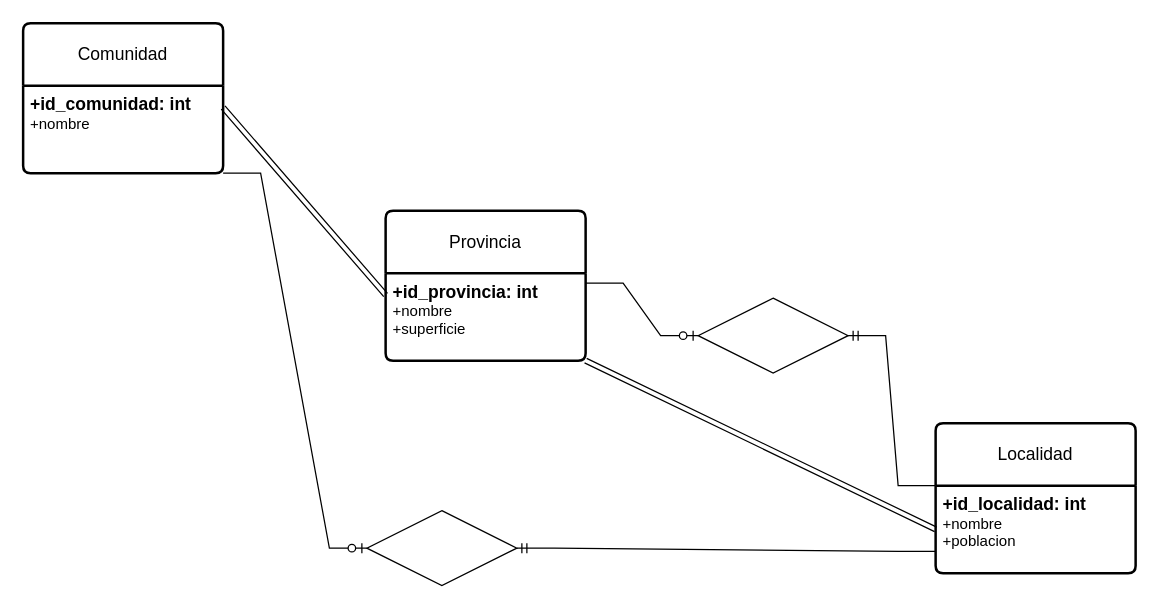
Some shapes in this 1158 by 608 pixel diagram are drawn without their labels. The centre of each missing label's shape, as x and y in pixels:
"capital comunidad" belongs at [441,547].
"capital provincia" belongs at [772,335].
